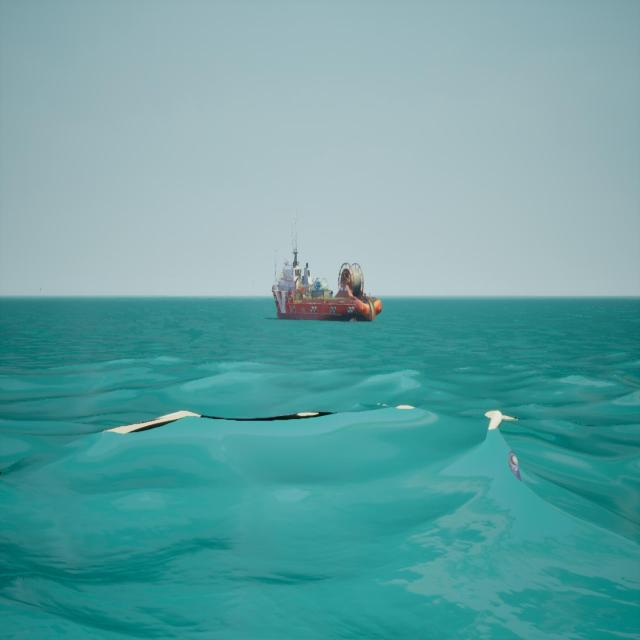tug boat: (270, 218, 378, 324)
